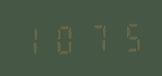five: (111, 18, 141, 53)
one: (18, 22, 48, 57)
seven: (80, 20, 110, 54)
zero: (49, 21, 79, 56)
